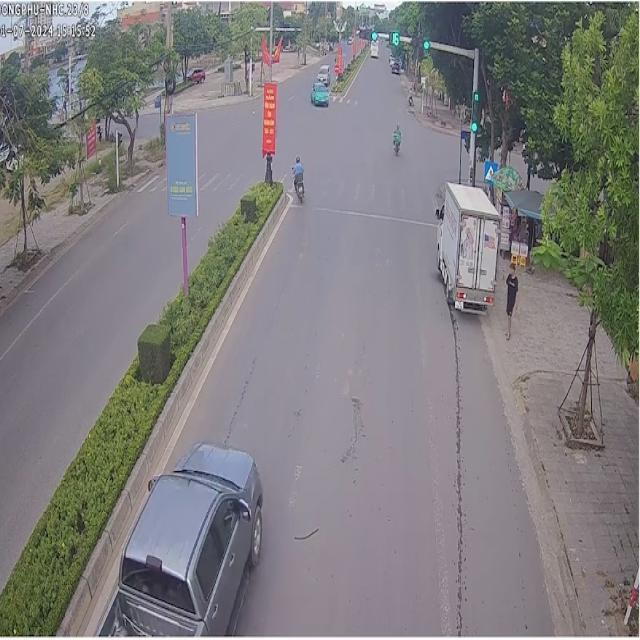car: (98, 441, 260, 633), (430, 180, 498, 311), (308, 79, 327, 104), (313, 62, 328, 84)
green_light: (470, 88, 478, 133), (412, 34, 430, 51), (359, 27, 379, 41), (388, 30, 398, 46)
motobike: (290, 154, 303, 199), (390, 123, 399, 153)
stop_line: (284, 200, 434, 225)
